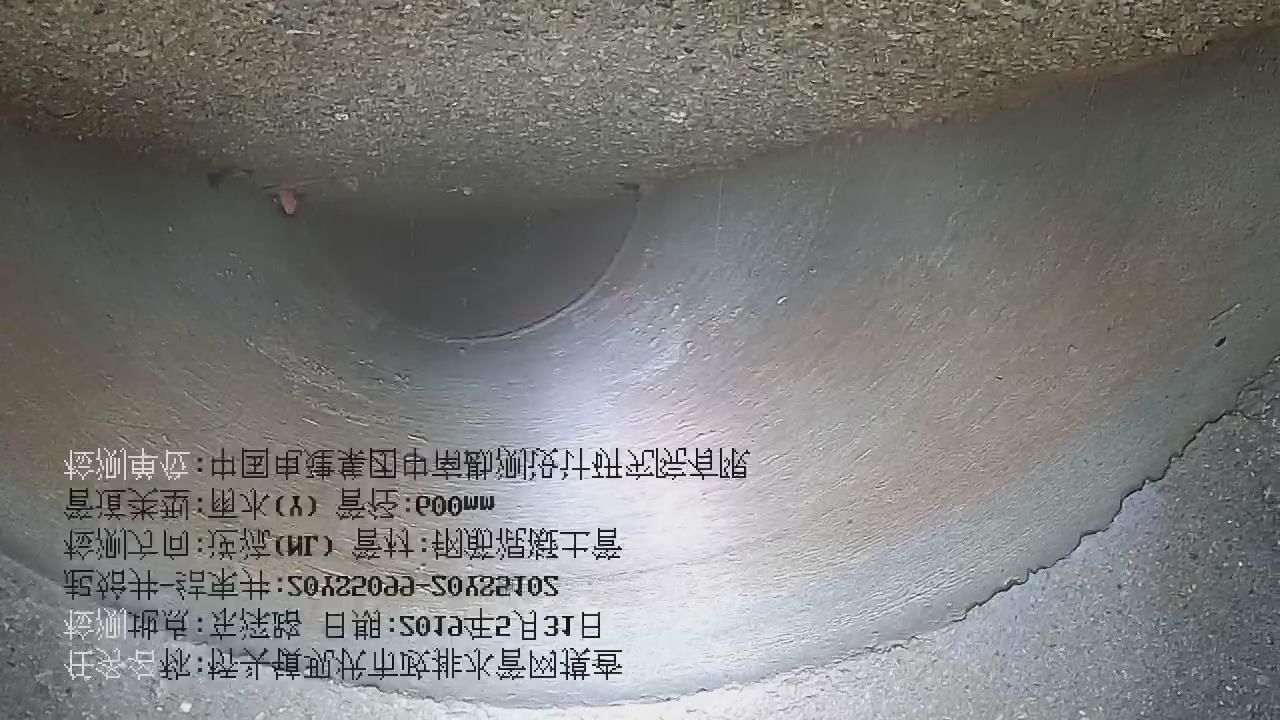CJ: (0, 1, 1279, 210)
CKTJ: (382, 178, 653, 349)
